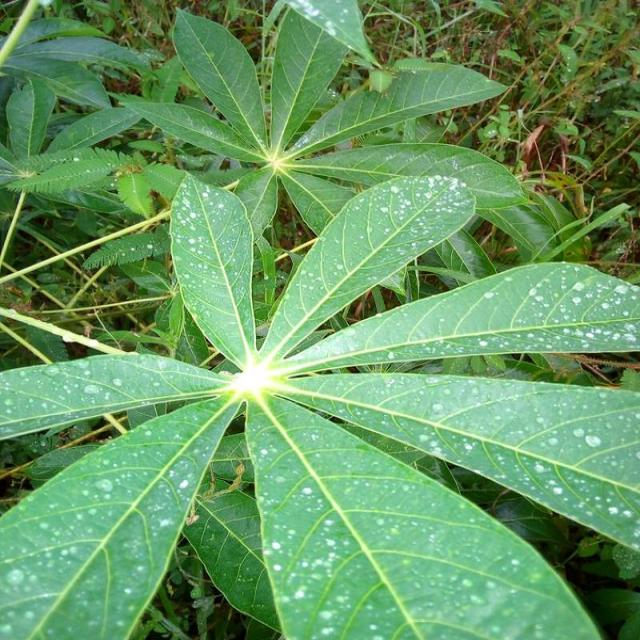cassava leaf: (0, 1, 638, 637), (243, 390, 604, 638), (0, 383, 243, 638), (258, 172, 475, 364)
